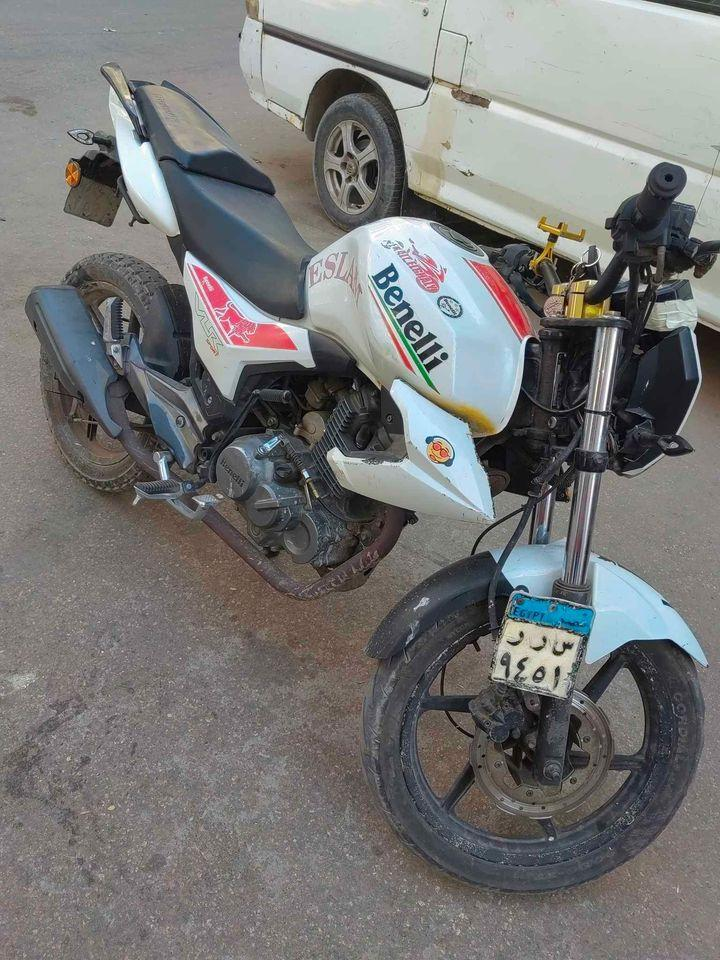License Plate: (493, 590, 597, 692)
